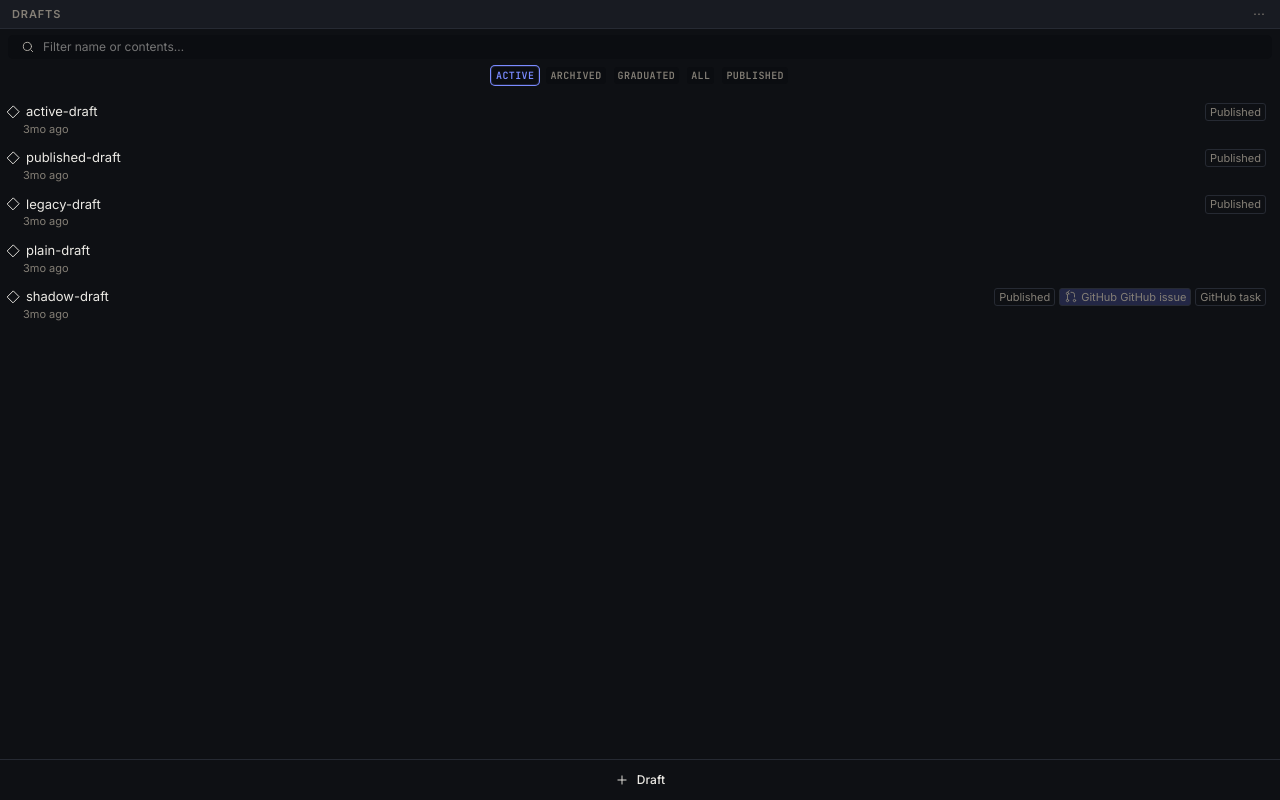
Test: The published position (DRP-FR-07, DRP-FR-GBVS) › DRP-FR-07, DRP-FR-GBVS: activating the fifth button narrows the tree to published drafts
Expected: the text "archived-draft" is not shown
What coordinates should you click on to do the following:
click the radio button labelled "Published"
I would click on:
 (755, 76)
Its box is x1=720 y1=65 x2=790 y2=86.
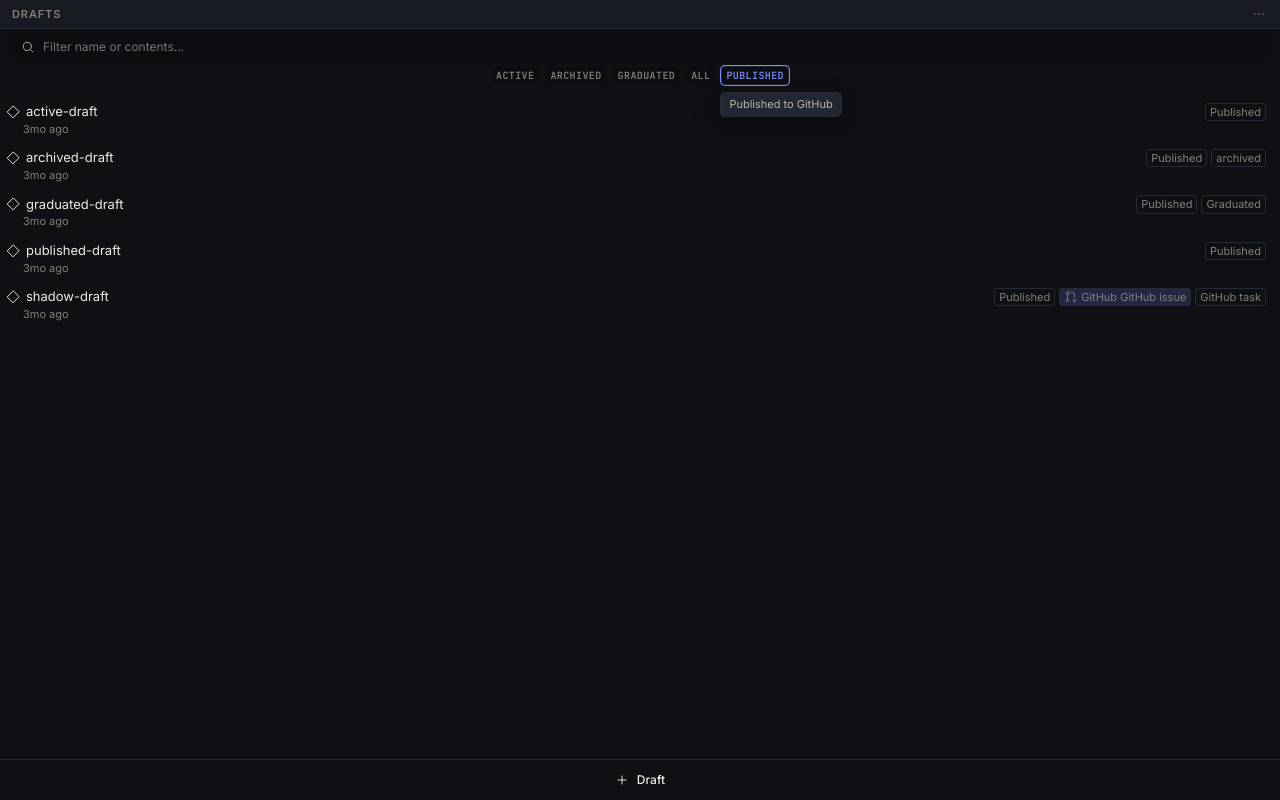
Result: the text "plain-draft" is gone
